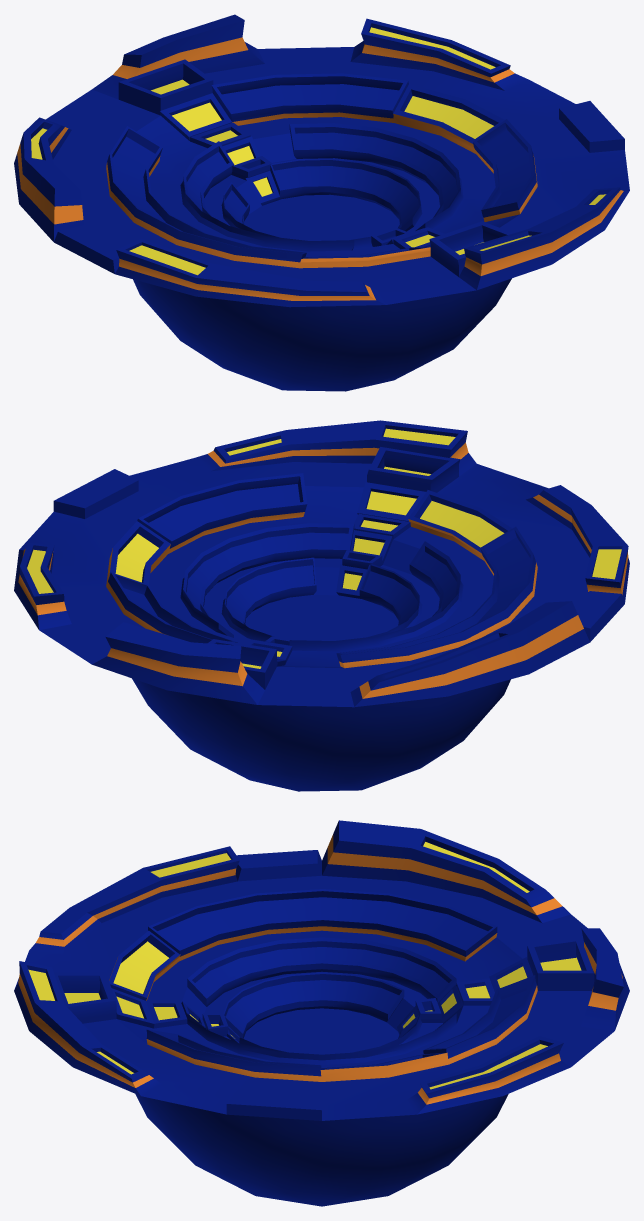
The model's file is Level15B5.fbx.
3 views of the same model, one above another, from view 1: azimuth 30°, elevation 25°; view 2: azimuth 150°, elevation 25°; view 3: azimuth 270°, elevation 25° (orthographic).
Parts seen in each view (by area): view 1: Icosphere; view 2: Icosphere; view 3: Icosphere.
Boxes of the visible parts, x1=… form: Icosphere: x1=14, y1=14, x2=629, y2=391; Icosphere: x1=14, y1=420, x2=629, y2=791; Icosphere: x1=14, y1=820, x2=629, y2=1206.
Size of the model in its own units: 3446 by 1485 by 3446.
